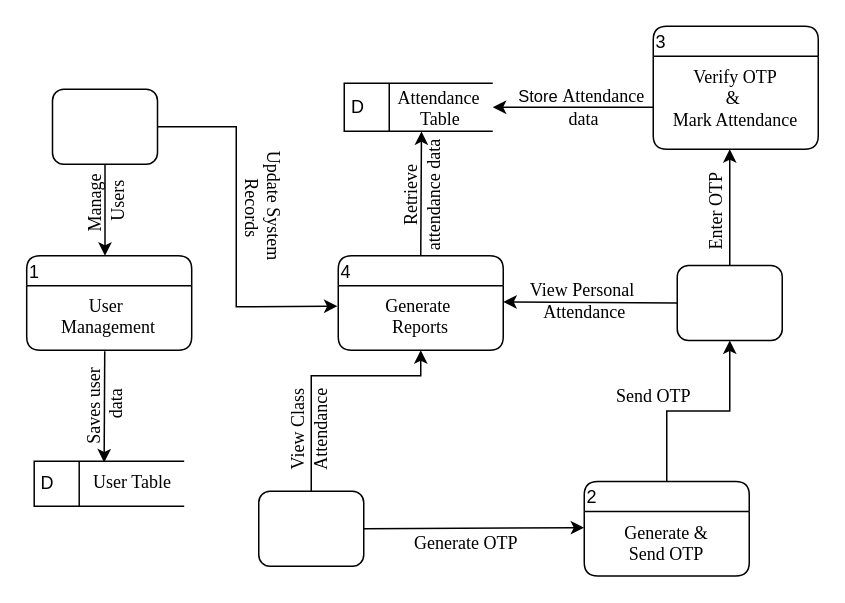
The diagram is 845 pixels wide and 603 high, and some of its shapes have lost their labels. Each missing label, with the centre of its shape:
Admin: pixel 104 126
Student: pixel 729 302
Teacher: pixel 310 528
